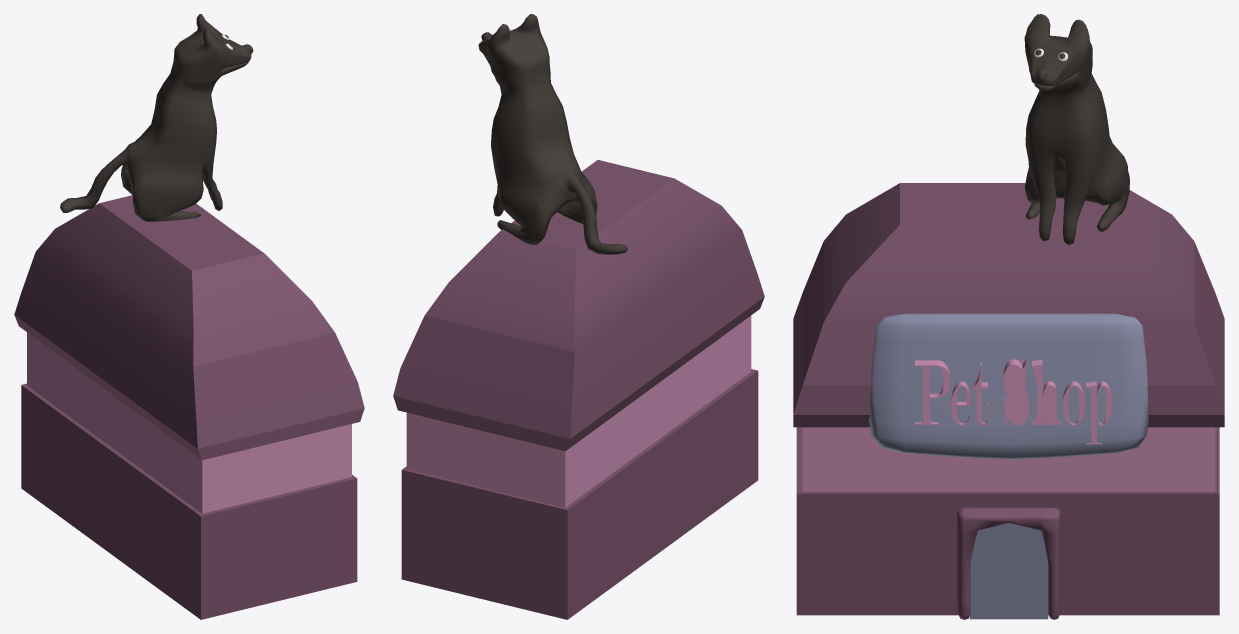
The model's file is Petshop2.fbx.
3 renders of one model, left to right at view 1: azimuth 30°, elevation 25°; view 2: azimuth 150°, elevation 25°; view 3: azimuth 270°, elevation 25°, orthographic. The views are drawn at different scales.
Parts seen in each view (by area): view 1: pCube1, pCube10, Cat_s:pCube1; view 2: pCube1, pCube10, Cat_s:pCube1; view 3: pCube1, pCube10, pCube2, Cat_s:pCube1, pCube11, typeMesh1, pCube3.
Boxes of the visible parts, x1,y1,x2,y2 form: pCube1: (14, 195, 364, 513); pCube10: (21, 383, 357, 619); Cat_s:pCube1: (60, 14, 253, 221); pCube1: (393, 160, 764, 507); pCube10: (401, 369, 758, 619); Cat_s:pCube1: (478, 14, 627, 254); pCube1: (793, 183, 1224, 491); pCube10: (796, 427, 1219, 615); pCube2: (869, 313, 1148, 459); Cat_s:pCube1: (1024, 14, 1129, 245); pCube11: (969, 523, 1048, 619); typeMesh1: (915, 359, 1111, 444); pCube3: (957, 507, 1060, 619).
Size of the model in its own units: 7.28 by 18.3 by 12.45.
